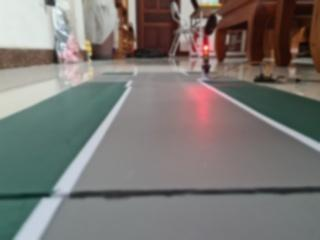red: (195, 39, 214, 72)
